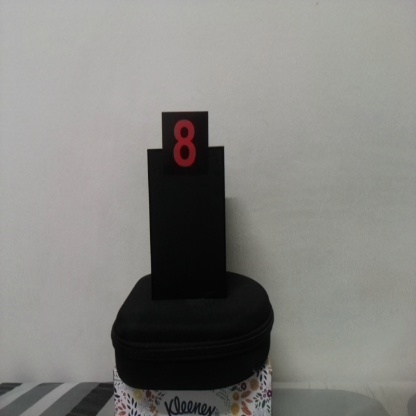id_8: (161, 113, 209, 183)
